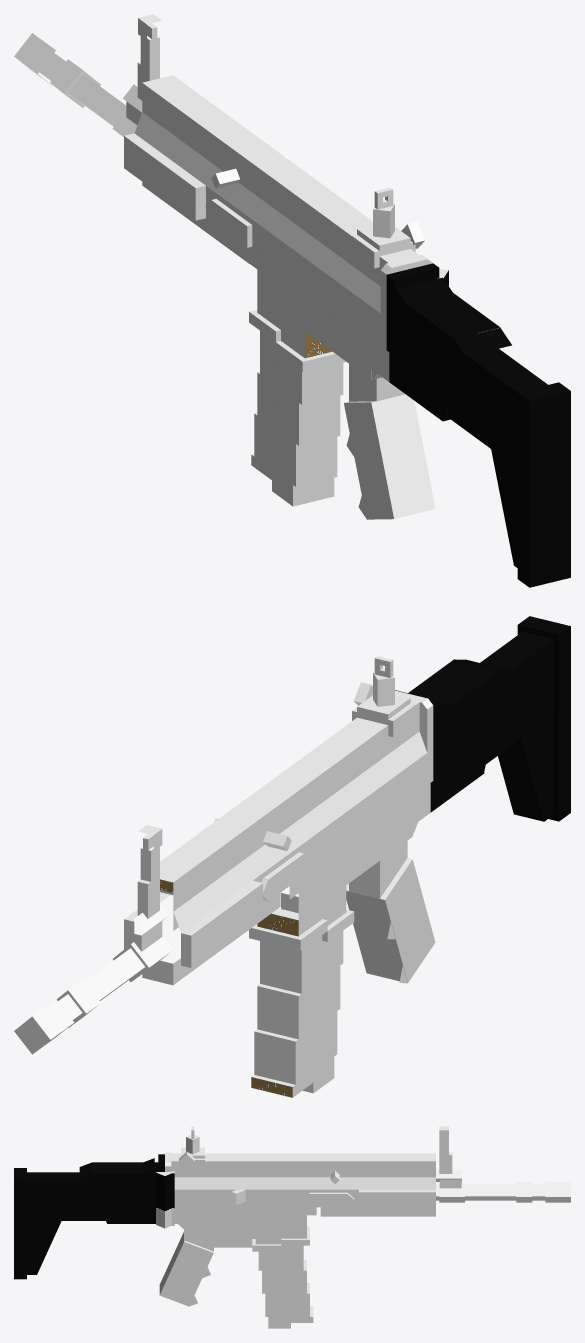
Rendered from jeg_combat_rifle.glb.
3 views of the same model, one above another, from view 1: azimuth 30°, elevation 25°; view 2: azimuth 150°, elevation 25°; view 3: azimuth 270°, elevation 25° (orthographic). The views are drawn at different scales.
Visible parts, largest first — view 1: Gun; view 2: Gun; view 3: Gun.
Boxes of the visible parts, x1,y1,x2,y2 form: Gun: (14,14,570,587); Gun: (14,616,570,1097); Gun: (14,1126,570,1328).
Bounding box in the file's own units: 0.0906 × 0.4188 × 1.08.
Materials: 1 (1 with a texture image).
